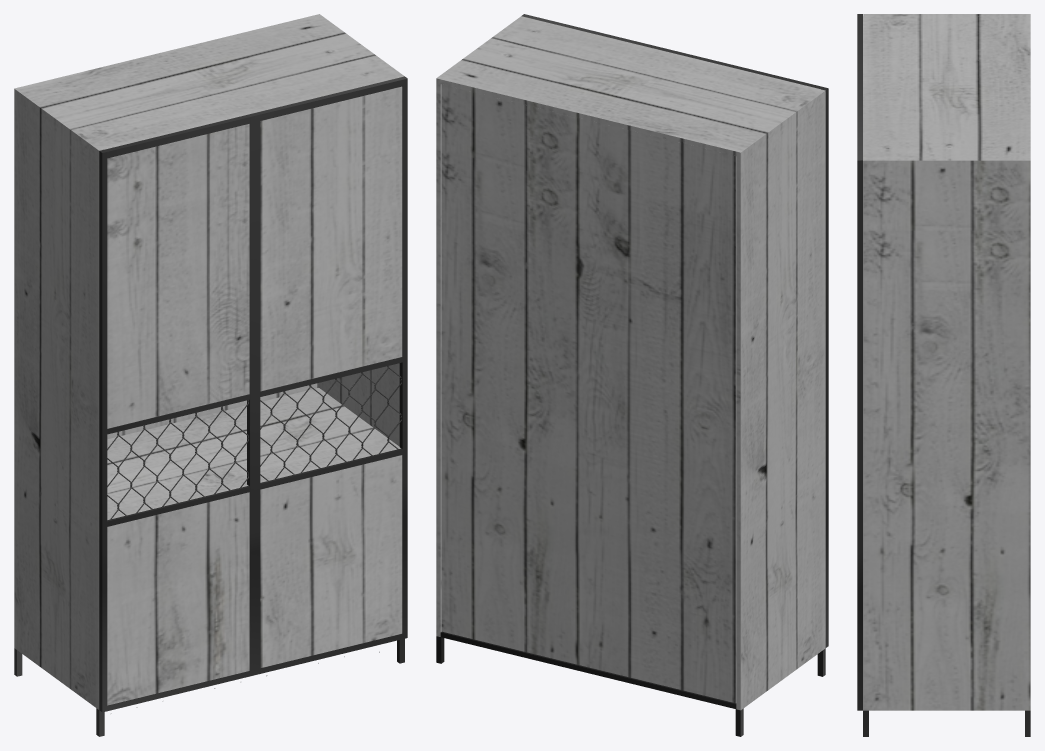
3 renders of one model, left to right at view 1: azimuth 30°, elevation 25°; view 2: azimuth 150°, elevation 25°; view 3: azimuth 270°, elevation 25°, orthographic.
Visible parts, largest first — view 1: solid_002, glass_001; view 2: solid_002, glass_001; view 3: solid_002, glass_001.
Part boxes in pixels (x1,y1,x2,y2): solid_002: (14, 14, 404, 709); glass_001: (14, 76, 407, 736); solid_002: (436, 16, 825, 710); glass_001: (436, 14, 828, 736); solid_002: (863, 14, 1030, 710); glass_001: (857, 14, 1030, 736).
Bounding box in the file's own units: 0.8571 × 1.57 × 0.4286.
1 material, 1 textured.
